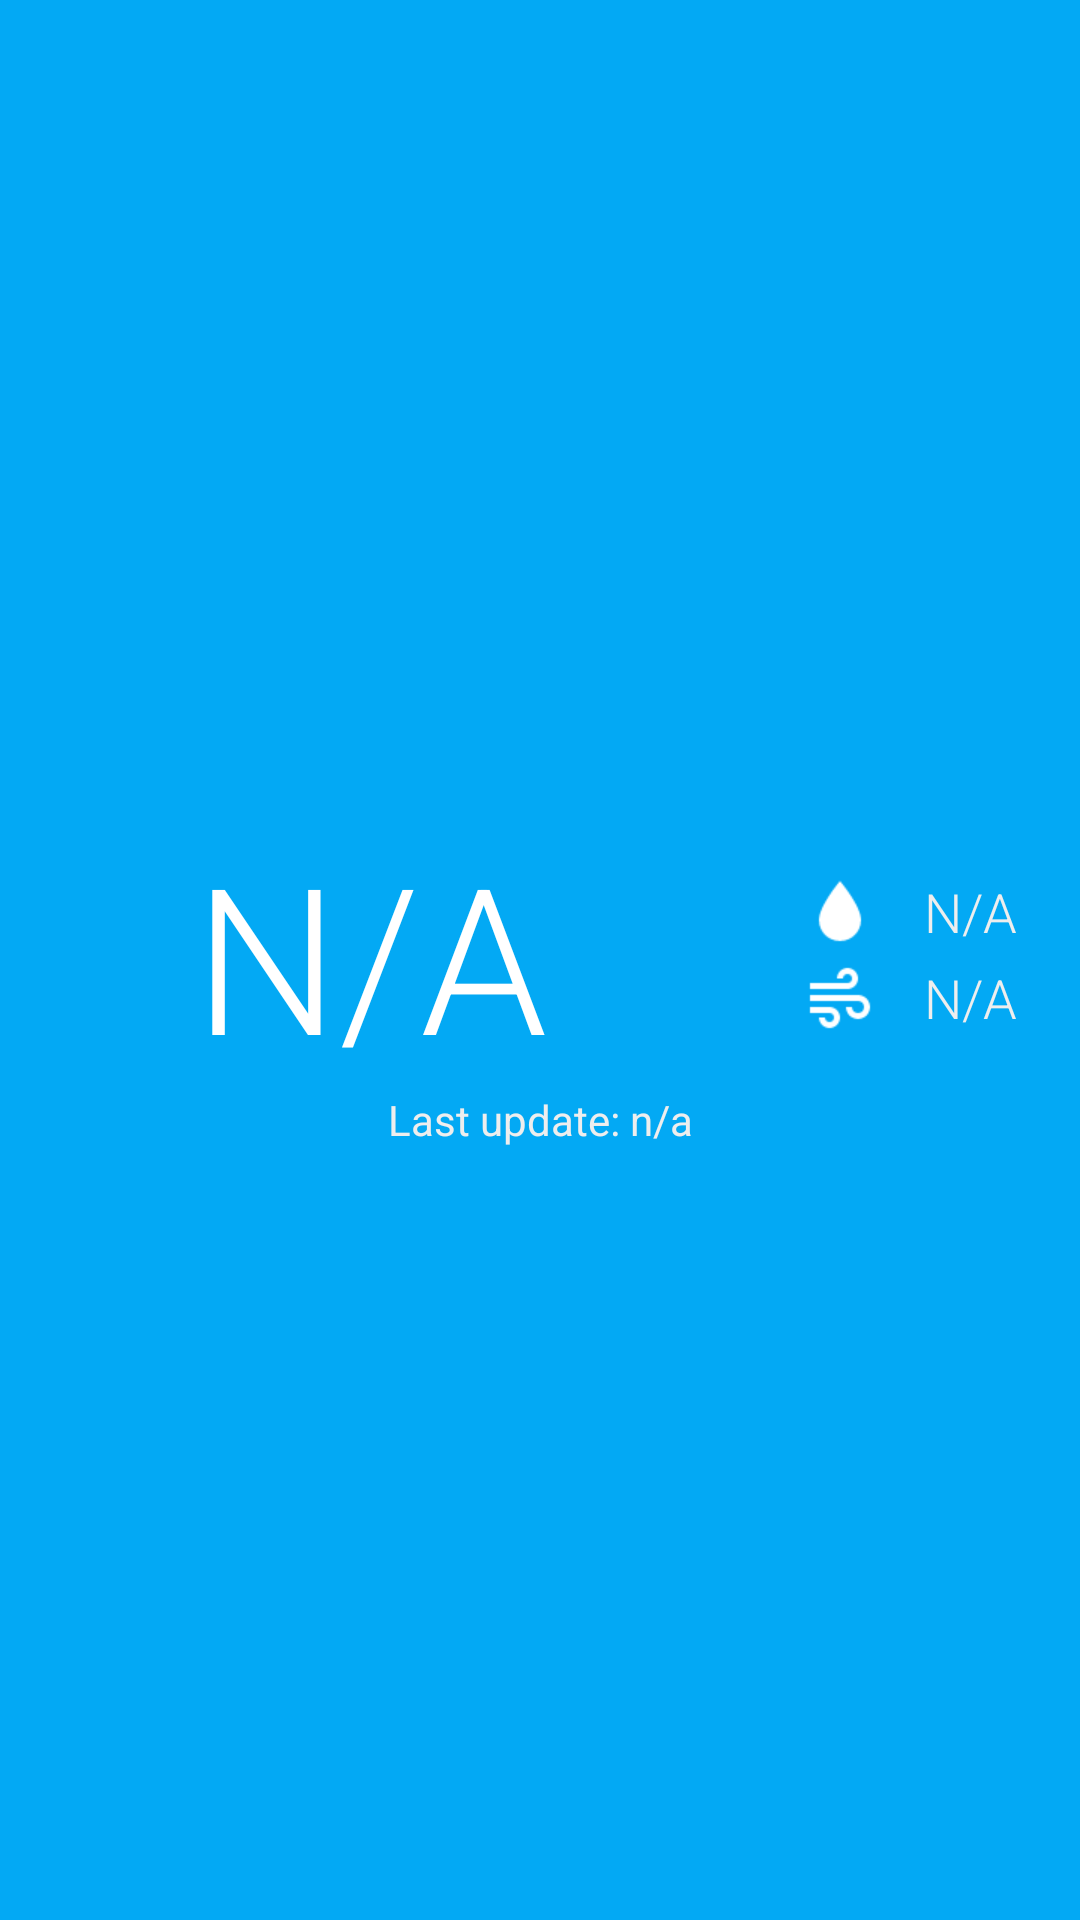

Icons on this 1080w x 1920h Android screen, each with its box as rect(x1, y1, x2, y2):
weather rain: rect(818, 881, 862, 942)
weather wind: rect(809, 967, 871, 1029)
